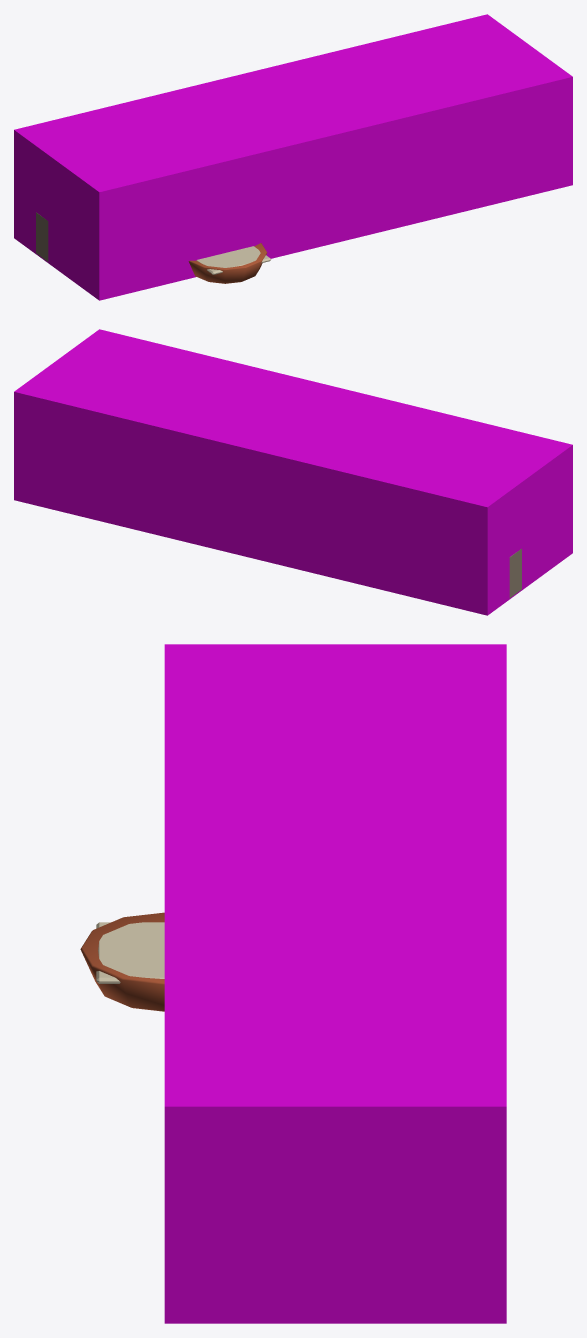
The model's file is PRP_Material_Stacks_A.glb.
3 renders of one model, top to bottom at view 1: azimuth 30°, elevation 25°; view 2: azimuth 150°, elevation 25°; view 3: azimuth 270°, elevation 25°, orthographic. The views are drawn at different scales.
Visible parts, largest first — view 1: COL_Stacks, PRP_Material_Stacks_A_Mesh; view 2: COL_Stacks, PRP_Material_Stacks_A_Mesh; view 3: COL_Stacks, PRP_Material_Stacks_A_Mesh.
Part boxes in pixels (left/top/right/bottom): COL_Stacks: left=14, top=14, right=572, bottom=300; PRP_Material_Stacks_A_Mesh: left=36, top=212, right=271, bottom=283; COL_Stacks: left=14, top=329, right=572, bottom=615; PRP_Material_Stacks_A_Mesh: left=509, top=548, right=521, bottom=597; COL_Stacks: left=164, top=644, right=506, bottom=1323; PRP_Material_Stacks_A_Mesh: left=80, top=912, right=164, bottom=1011.
Bounding box in the file's own units: 3.2 × 0.7 × 1.25.
